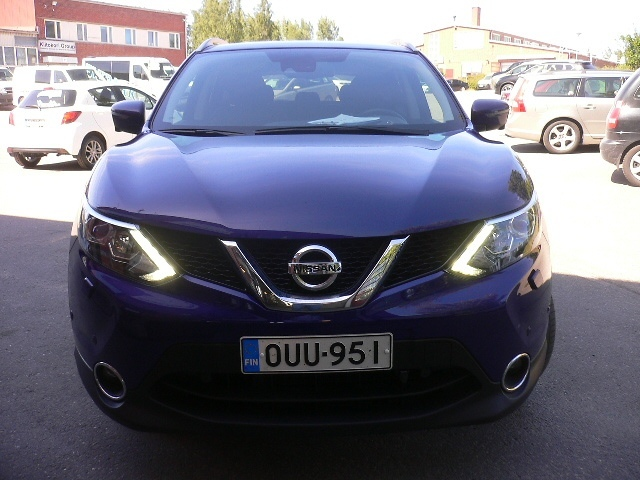license: (236, 330, 392, 372)
